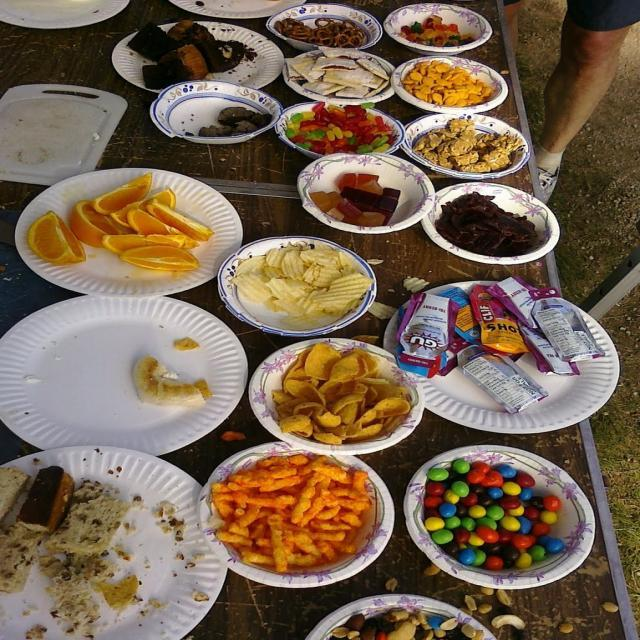Orange: (30, 172, 216, 270)
